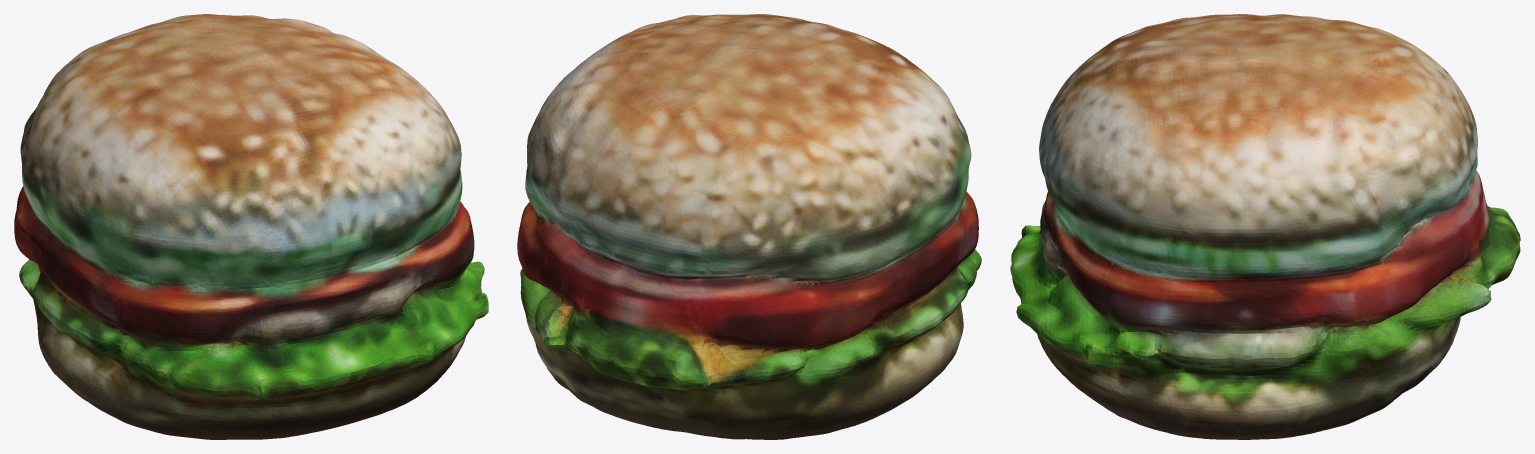
Rendered from a hamburger._17.glb.
3 renders of one model, left to right at view 1: azimuth 30°, elevation 25°; view 2: azimuth 150°, elevation 25°; view 3: azimuth 270°, elevation 25°, orthographic. The views are drawn at different scales.
Size of the model in its own units: 0.8525 by 0.6699 by 0.9651.
1 material, 1 textured.
